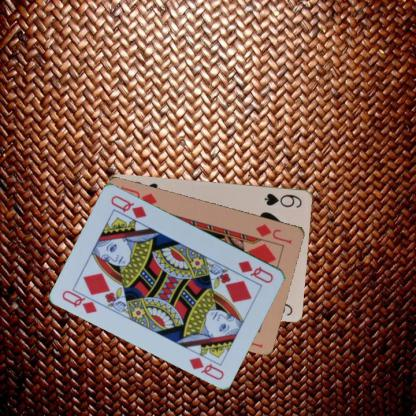6s: (262, 191, 303, 209)
Jd: (253, 221, 294, 245)
Qd: (60, 286, 104, 315), (236, 258, 275, 284)
